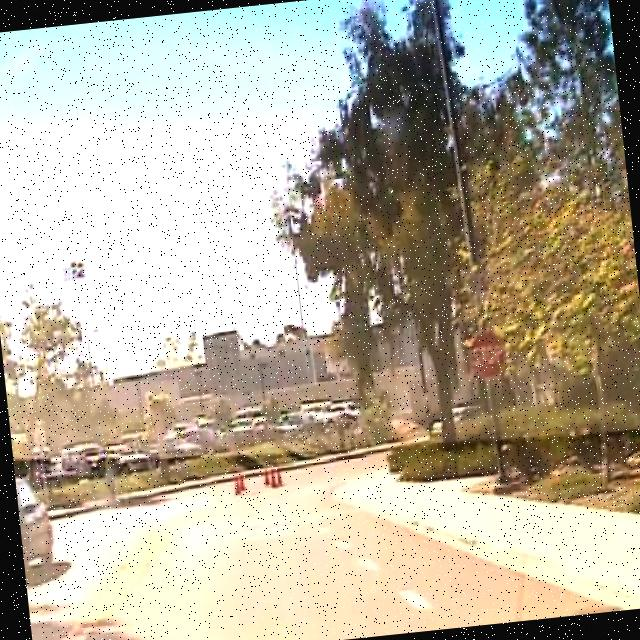Stop: (468, 330, 508, 381)
